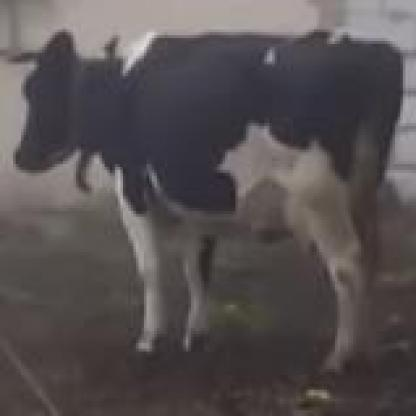cow: (13, 34, 406, 374)
